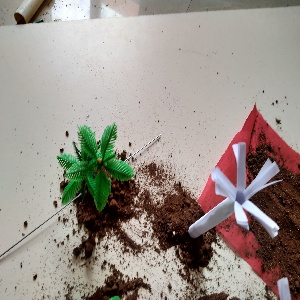plant: (49, 119, 131, 211)
weed: (174, 141, 287, 251)
